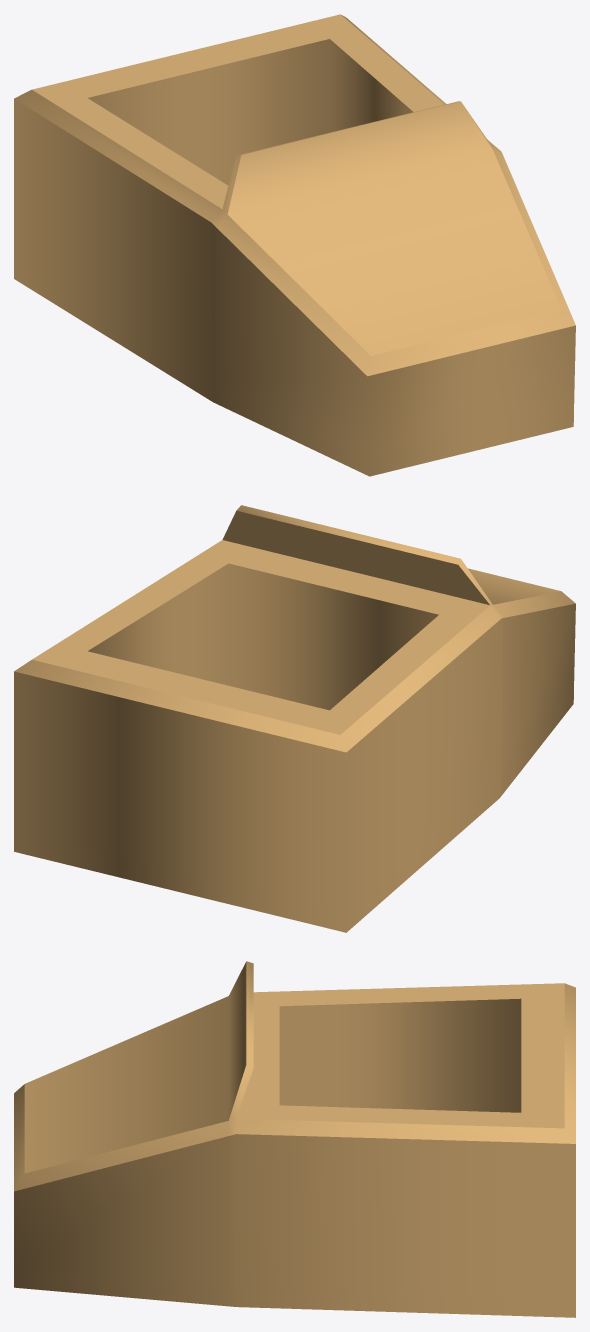
The model's file is sapatinho.fbx.
The picture shows the model from 3 angles, top to bottom: view 1: azimuth 30°, elevation 25°; view 2: azimuth 150°, elevation 25°; view 3: azimuth 270°, elevation 25°; orthographic projection. The views are drawn at different scales.
Parts seen in each view (by area): view 1: sapatinho; view 2: sapatinho; view 3: sapatinho.
Part boxes in pixels (bbox=[...]): sapatinho: bbox=[14, 14, 575, 476]; sapatinho: bbox=[14, 505, 575, 932]; sapatinho: bbox=[14, 961, 575, 1317].
Size of the model in its own units: 8 by 5.41 by 12.15.
